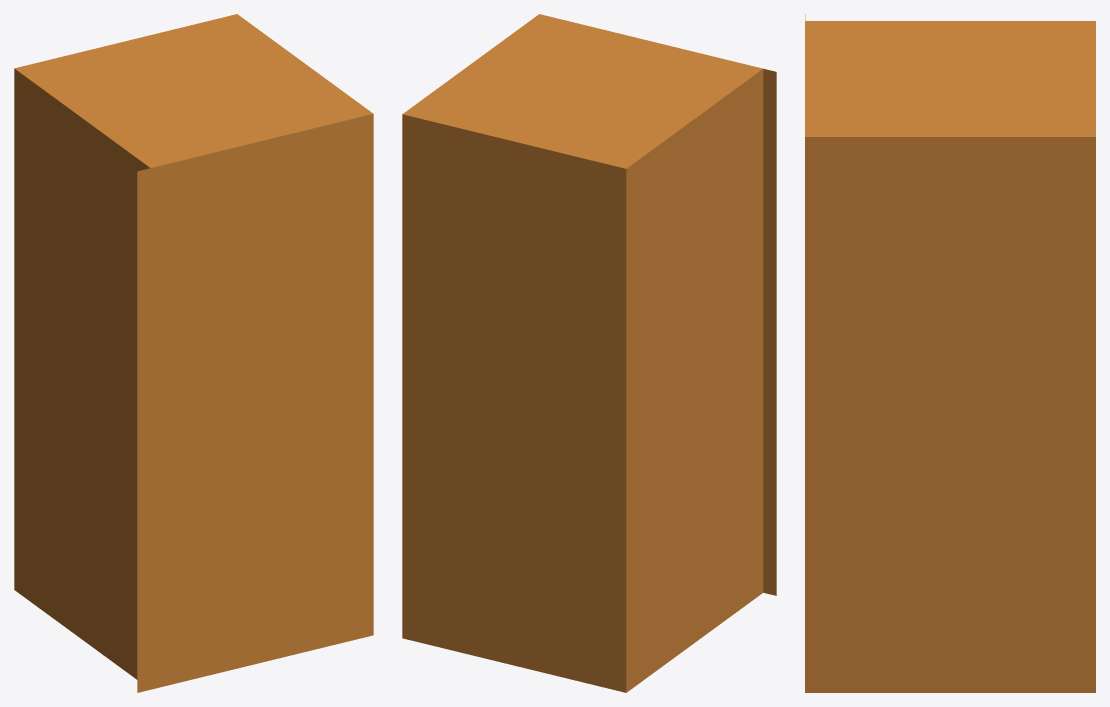
The picture shows the model from 3 angles, left to right: view 1: azimuth 30°, elevation 25°; view 2: azimuth 150°, elevation 25°; view 3: azimuth 270°, elevation 25°; orthographic projection. The views are drawn at different scales.
Visible parts, largest first — view 1: CORNER-B-12-p3; view 2: CORNER-B-12-p3; view 3: CORNER-B-12-p3.
Boxes of the visible parts, x1,y1,x2,y2 form: CORNER-B-12-p3: (14, 14, 373, 692); CORNER-B-12-p3: (402, 14, 776, 692); CORNER-B-12-p3: (805, 14, 1095, 692).
Size of the model in its own units: 0.09 by 0.19 by 0.09.
